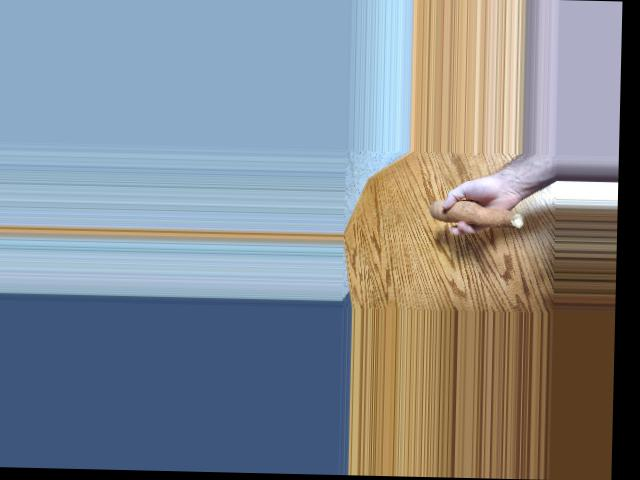sweet_potato: (435, 197, 516, 229)
